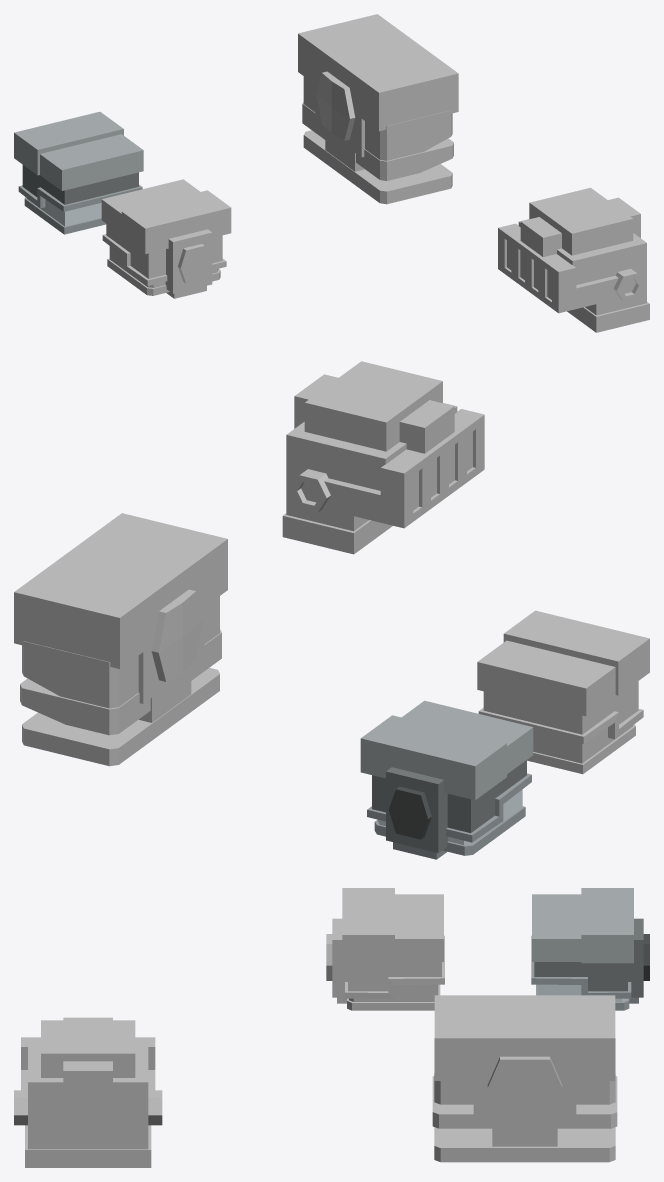
File: iron.obj
3 views of the same model, one above another, from view 1: azimuth 30°, elevation 25°; view 2: azimuth 150°, elevation 25°; view 3: azimuth 270°, elevation 25° (orthographic). The views are drawn at different scales.
Parts seen in each view (by area): view 1: Handle2, Handle1, Handle4, Handle3; view 2: Handle2, Handle1, Handle3, Handle4; view 3: Handle2, Handle1, Handle4, Handle3.
Part boxes in pixels (x1,y1,x2,y2): Handle2: (298, 14, 458, 204); Handle1: (498, 187, 649, 332); Handle4: (101, 179, 231, 298); Handle3: (14, 111, 143, 234); Handle2: (14, 513, 227, 766); Handle1: (282, 361, 484, 554); Handle3: (360, 700, 533, 859); Handle4: (477, 610, 649, 774); Handle2: (432, 995, 617, 1162); Handle1: (14, 1017, 162, 1167); Handle4: (326, 888, 444, 1010); Handle3: (531, 888, 649, 1010).
Bounding box in the file's own units: 5.51 × 1.61 × 7.38.
